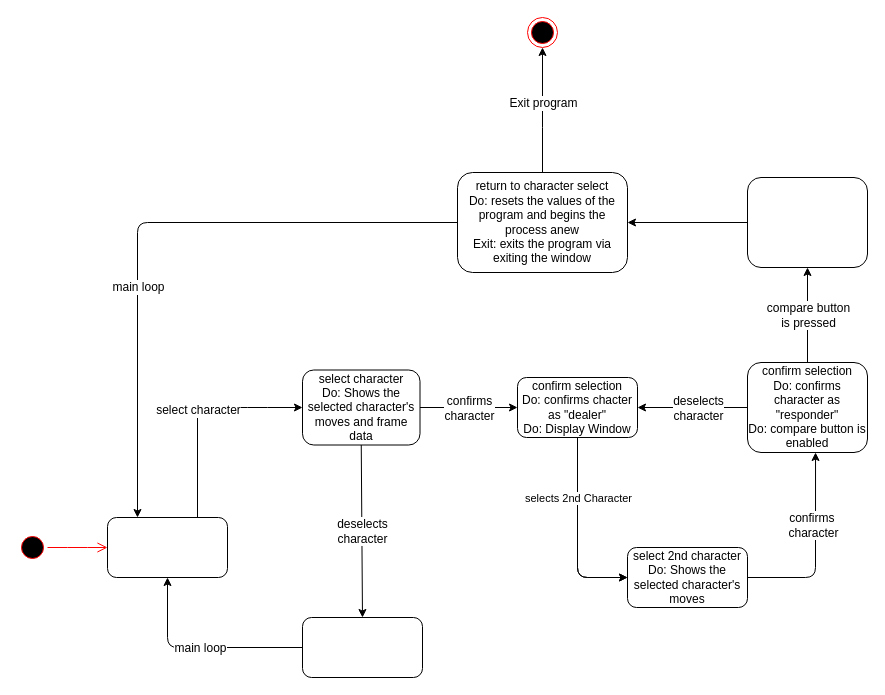
The diagram is 885 pixels wide and 695 high, and some of its shapes have lost their labels. The centre of each missing label's shape, as x and y in pixels:
compare frame data Do: the comparison between "dealer" and "responder" is done: point 807,222
deselect character Do: remove selected character: point 362,647
main loop Do: Display window: point 167,547
